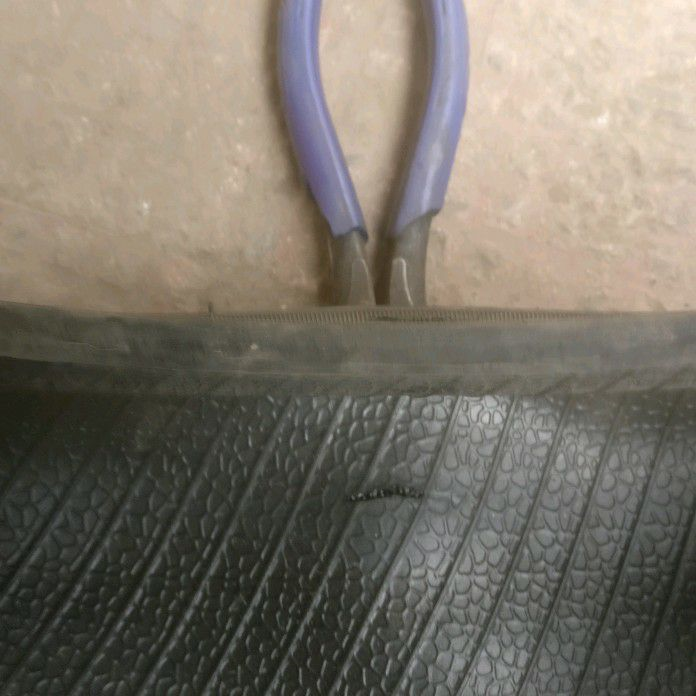CBU: (331, 473, 435, 509)
